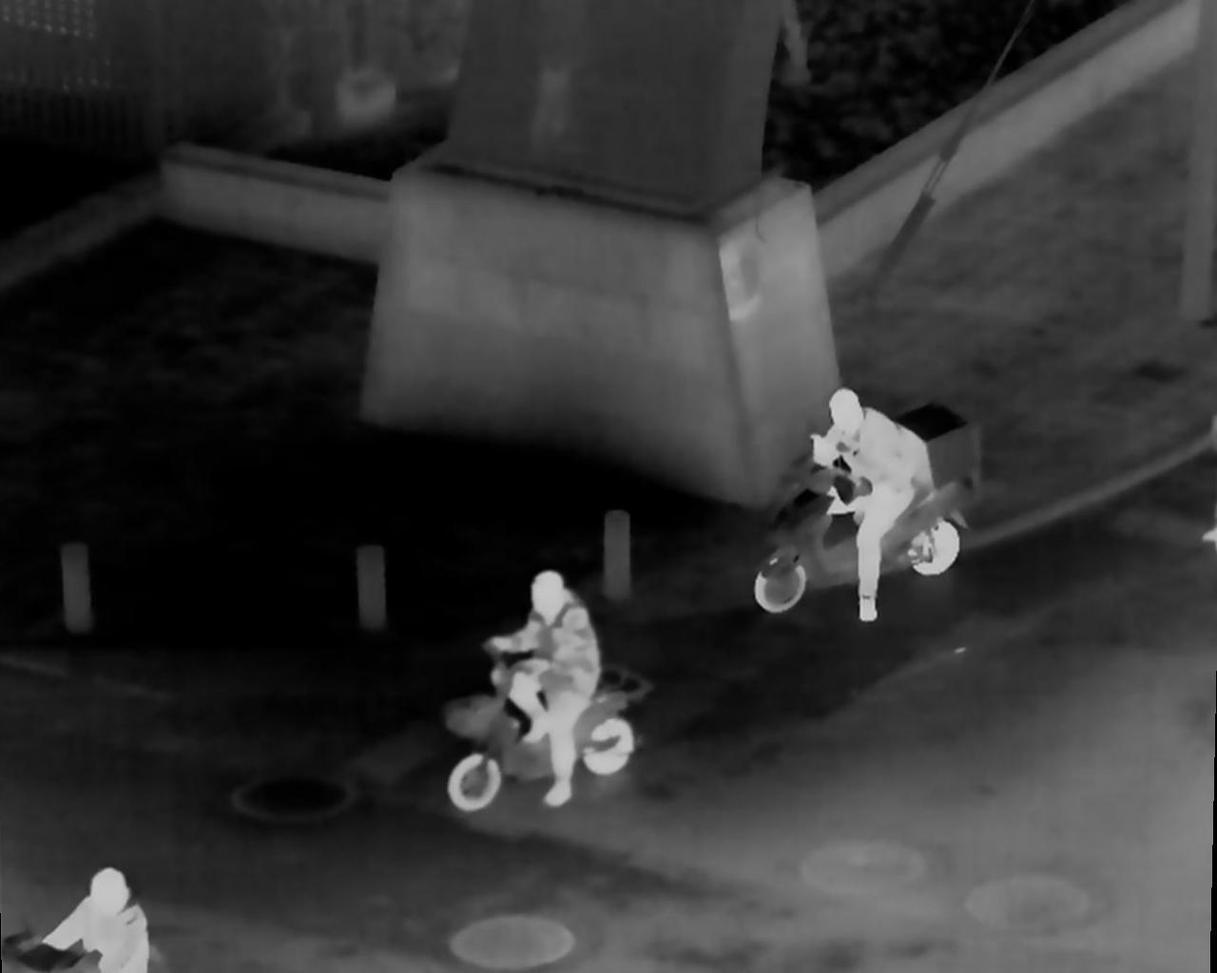person: (814, 396, 940, 620), (507, 563, 612, 808), (40, 867, 165, 973)
